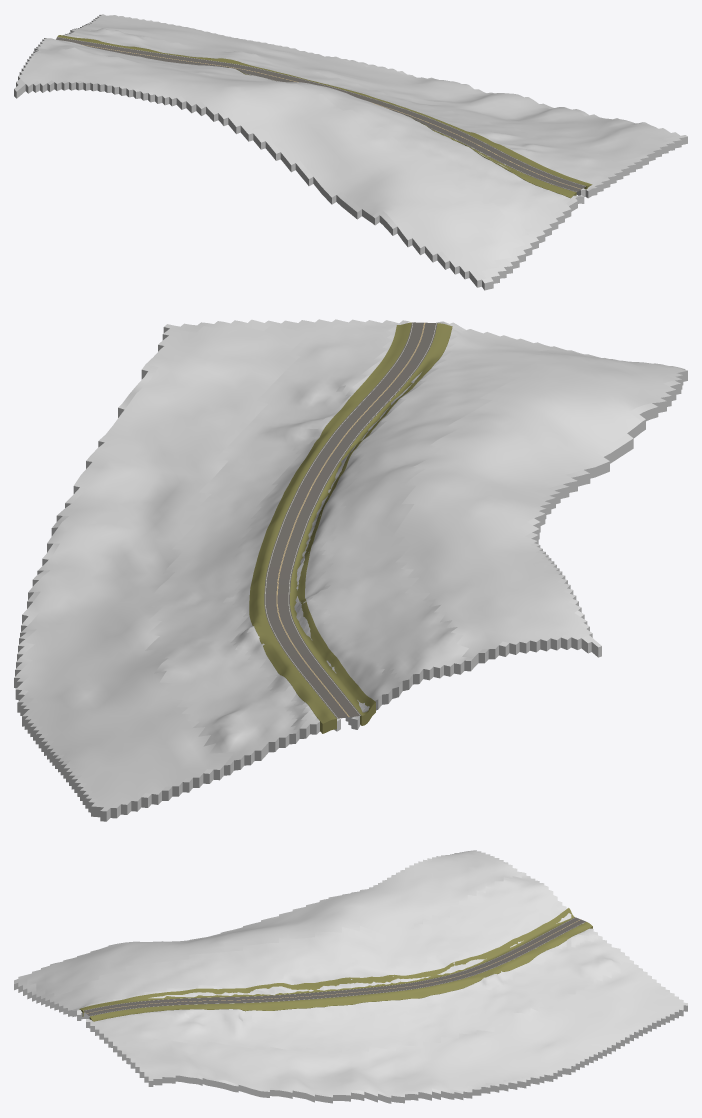
The model's file is conz_155.glb.
The picture shows the model from 3 angles, top to bottom: view 1: azimuth 30°, elevation 25°; view 2: azimuth 150°, elevation 25°; view 3: azimuth 270°, elevation 25°; orthographic projection. The views are drawn at different scales.
Visible parts, largest first — view 1: terrain155, road155, verge155R, verge155L; view 2: terrain155, road155, verge155R, verge155L, paint_white155, paint_yellow155; view 3: terrain155, verge155R, road155, verge155L.
Part boxes in pixels (box(x1,y1,x2,y2)): terrain155: box(14, 14, 687, 290); road155: box(56, 37, 586, 192); verge155R: box(57, 35, 592, 189); verge155L: box(227, 67, 576, 198); terrain155: box(14, 319, 687, 821); road155: box(264, 322, 437, 718); verge155R: box(249, 322, 411, 733); verge155L: box(290, 323, 452, 725); paint_white155: box(265, 322, 436, 717); paint_yellow155: box(276, 322, 425, 716); terrain155: box(14, 850, 687, 1103); verge155R: box(89, 922, 592, 1021); road155: box(83, 917, 585, 1016); verge155L: box(79, 908, 574, 1016).
Bounding box in the file's own units: 214 × 45.91 × 300.
